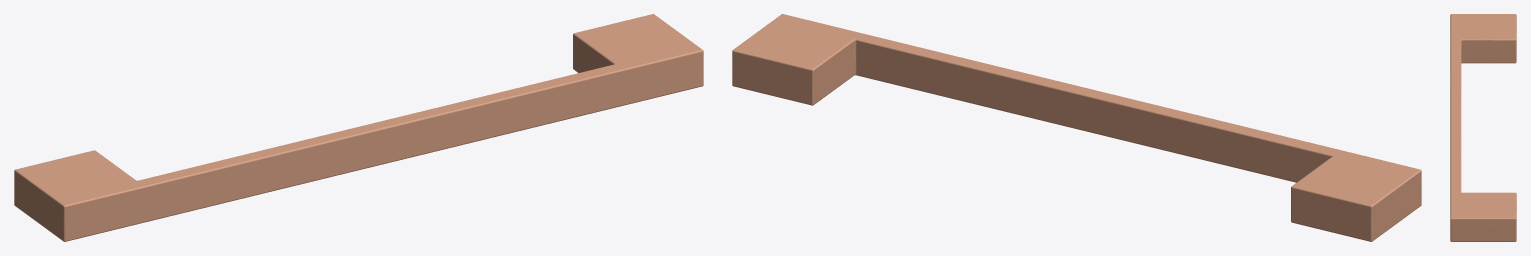
File: eurofit-h-108-192sb-v3.glb
3 renders of one model, left to right at view 1: azimuth 30°, elevation 25°; view 2: azimuth 150°, elevation 25°; view 3: azimuth 270°, elevation 25°, orthographic. The views are drawn at different scales.
Parts seen in each view (by area): view 1: Continuous U grip and legs; view 2: Continuous U grip and legs; view 3: Continuous U grip and legs.
Part boxes in pixels (x1,y1,x2,y2): Continuous U grip and legs: (14,14,703,241); Continuous U grip and legs: (732,14,1421,241); Continuous U grip and legs: (1450,14,1516,241).
Bounding box in the file's own units: 0.22 × 0.012 × 0.03.
